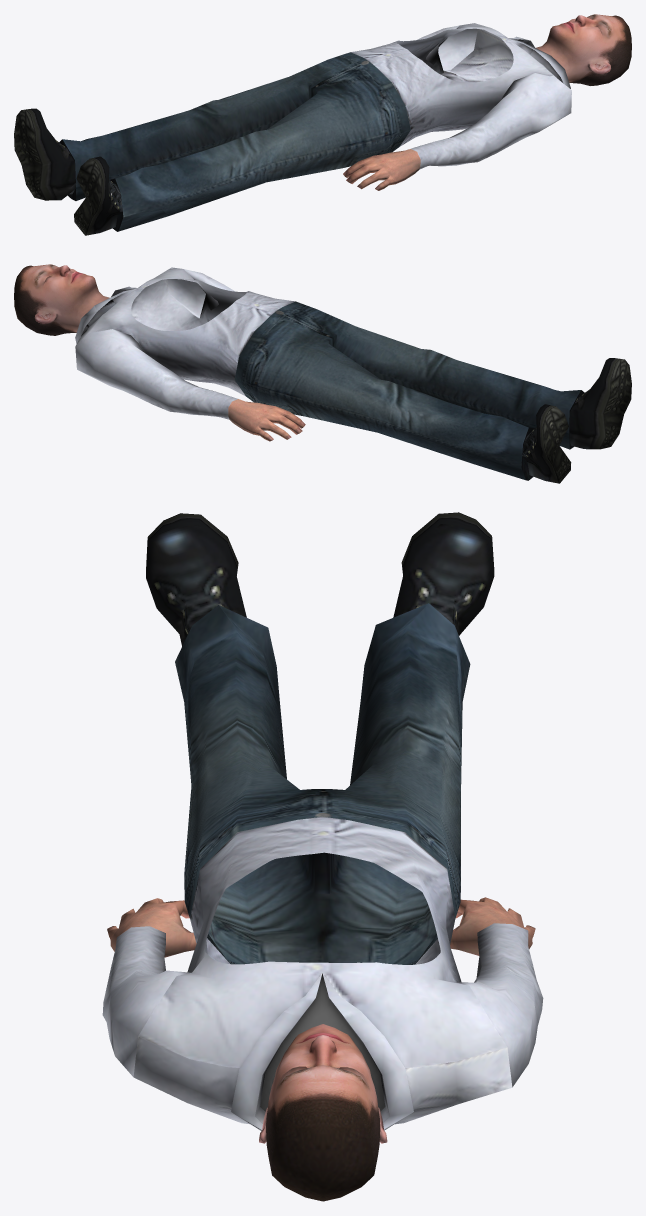
File: body.dae
3 views of the same model, one above another, from view 1: azimuth 30°, elevation 25°; view 2: azimuth 150°, elevation 25°; view 3: azimuth 270°, elevation 25° (orthographic). The views are drawn at different scales.
Visible parts, largest first — view 1: victim_legs, victim_shirt, victim_feet, victim_head, victimChest_trans, victim_leftHand; view 2: victim_legs, victim_shirt, victim_feet, victim_head, victimChest_trans, victim_rightHand; view 3: victim_legs, victim_shirt, victim_feet, victim_head, victimChest_trans, victim_leftHand, victim_rightHand.
Boxes of the visible parts, <box> form: victim_legs: <box>59,52,410,231</box>; victim_shirt: <box>351,23,571,169</box>; victim_feet: <box>14,108,122,235</box>; victim_head: <box>536,14,631,85</box>; victimChest_trans: <box>371,27,542,91</box>; victim_leftHand: <box>343,149,420,190</box>; victim_legs: <box>234,301,584,480</box>; victim_shirt: <box>75,267,295,419</box>; victim_feet: <box>522,358,631,483</box>; victim_head: <box>14,264,109,335</box>; victimChest_trans: <box>103,277,274,342</box>; victim_rightHand: <box>228,399,305,441</box>; victim_legs: <box>175,603,470,964</box>; victim_shirt: <box>102,816,543,1130</box>; victim_feet: <box>146,512,494,646</box>; victim_head: <box>259,1024,387,1201</box>; victimChest_trans: <box>192,836,454,1004</box>; victim_leftHand: <box>107,898,196,957</box>; victim_rightHand: <box>450,897,535,955</box>.
Bounding box in the file's own units: 1.72 × 0.258 × 0.5742.
Materials: 4 (4 with a texture image).
